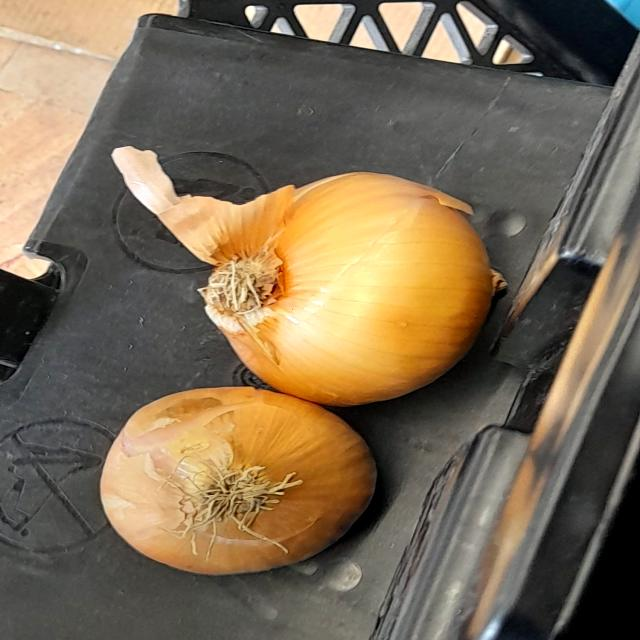onion: (166, 158, 515, 391), (78, 372, 386, 576)
